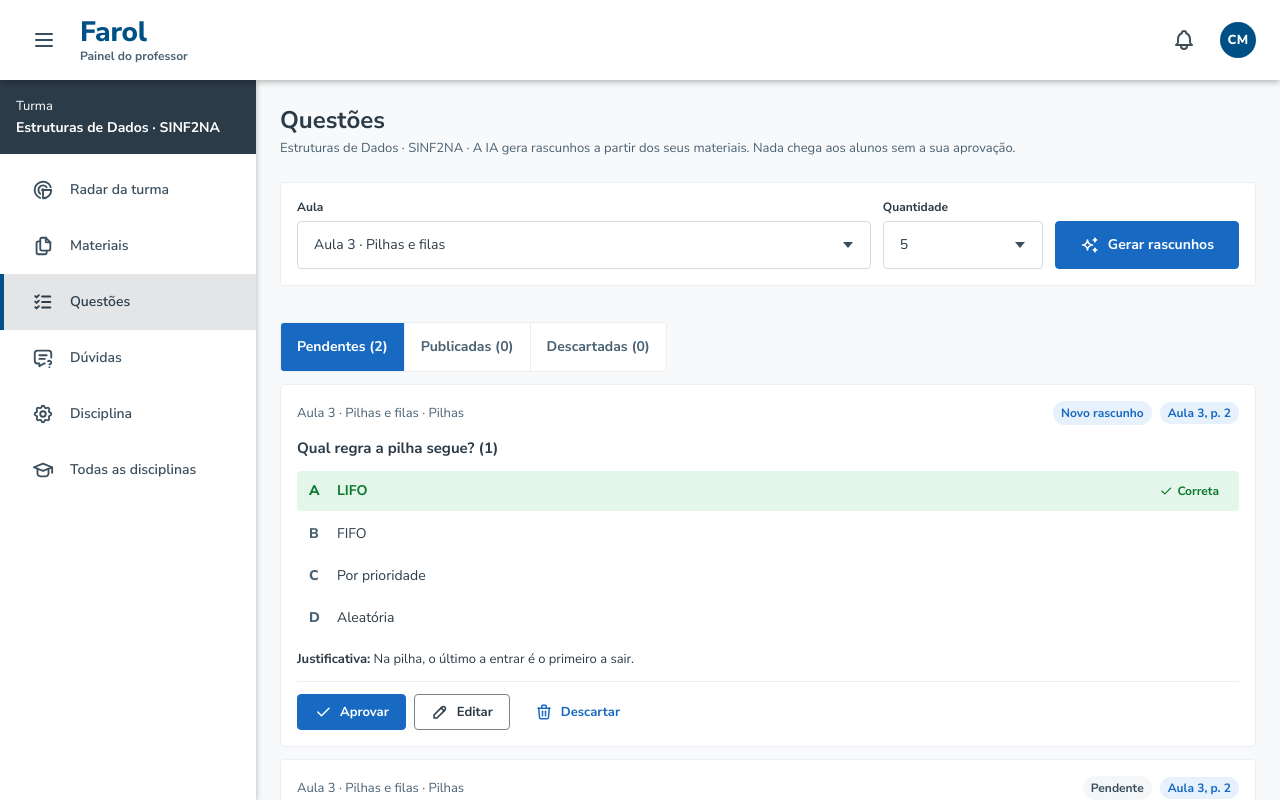
Test: questões do professor (QUE-T23, QUE-T32) › aprovar publica a questão e atualiza as contagens
Click the button with aria-label "Aprovar: Qual regra a pilha segue? (1)" at [351, 712], box top-left (297, 694), bottom-right (406, 730)
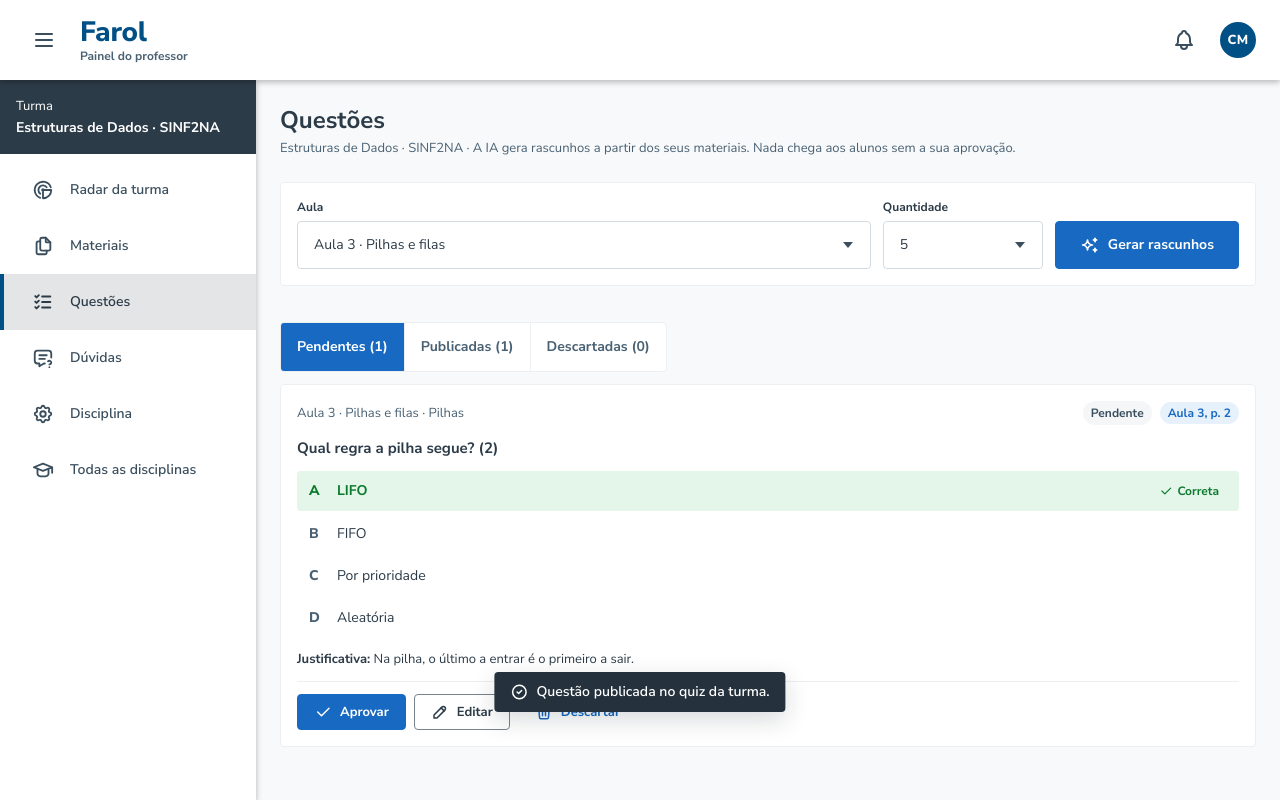
Now the tab "Publicadas (1)" is shown, box top-left (404, 323), bottom-right (530, 371)
Now the text "Questão publicada no quiz da turma." is shown, box top-left (536, 682), bottom-right (770, 702)
